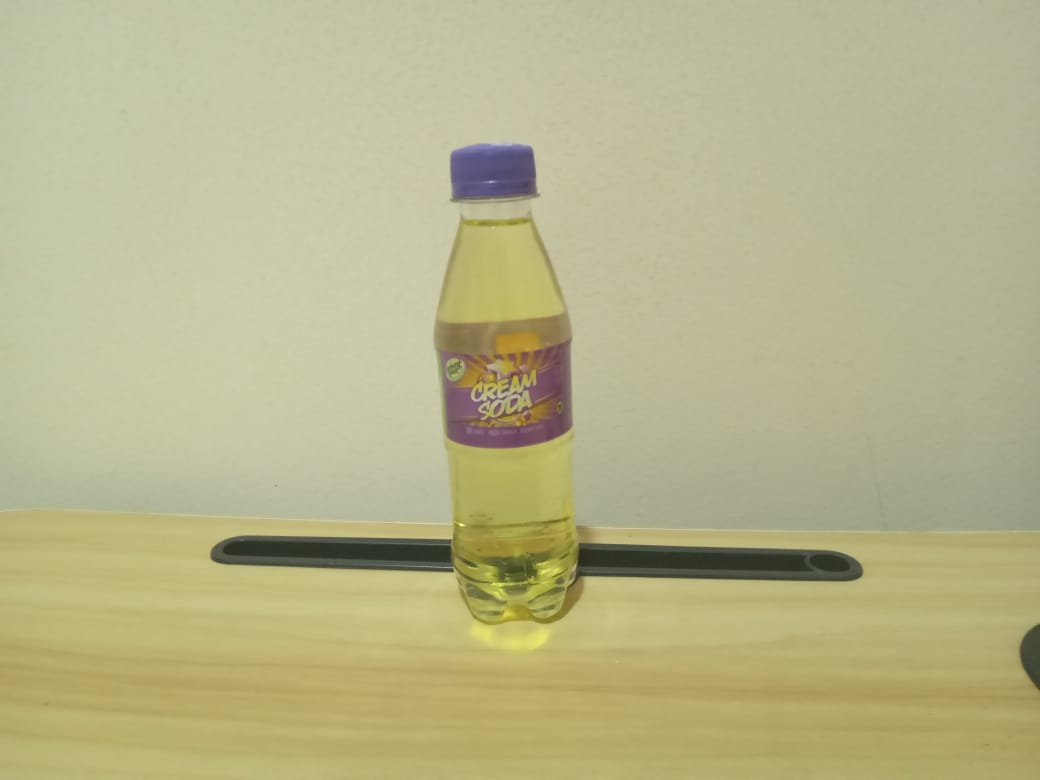Xs: (421, 134, 592, 633)
